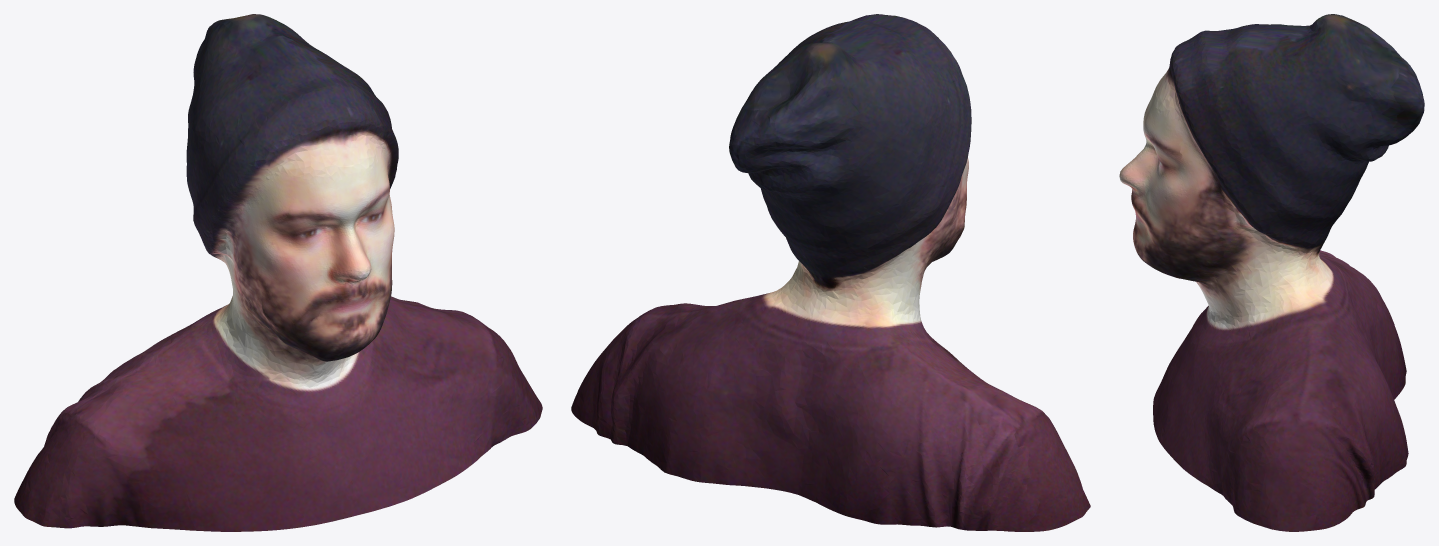
The model's file is busto-guillermo.fbx.
3 views of the same model, side by side, from view 1: azimuth 30°, elevation 25°; view 2: azimuth 150°, elevation 25°; view 3: azimuth 270°, elevation 25° (orthographic). The views are drawn at different scales.
Parts seen in each view (by area): view 1: model_mesh.001; view 2: model_mesh.001; view 3: model_mesh.001.
Part boxes in pixels (x1=…): model_mesh.001: x1=14, y1=14, x2=542, y2=531; model_mesh.001: x1=571, y1=14, x2=1090, y2=531; model_mesh.001: x1=1119, y1=14, x2=1424, y2=531.
Size of the model in its own units: 50.44 by 40.89 by 28.66.
